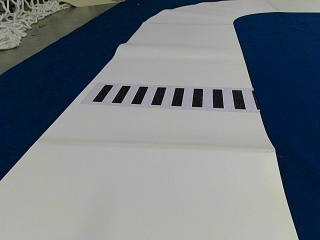crosswalk: (94, 84, 248, 109)
